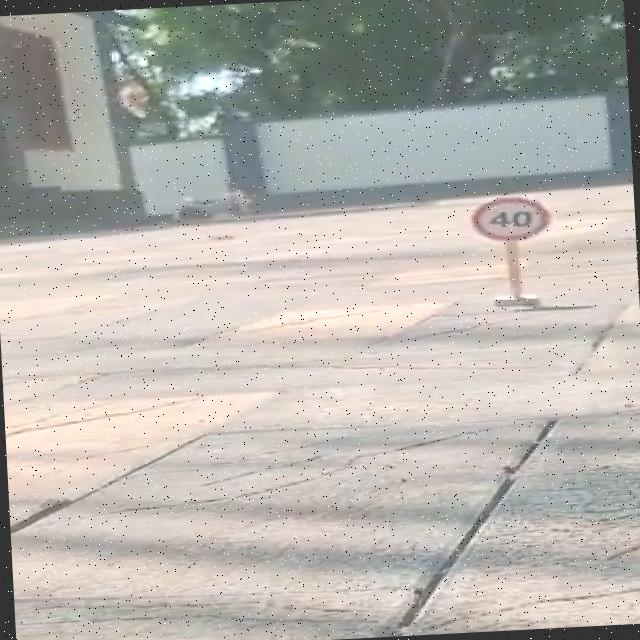Speed40: (466, 192, 556, 248)
